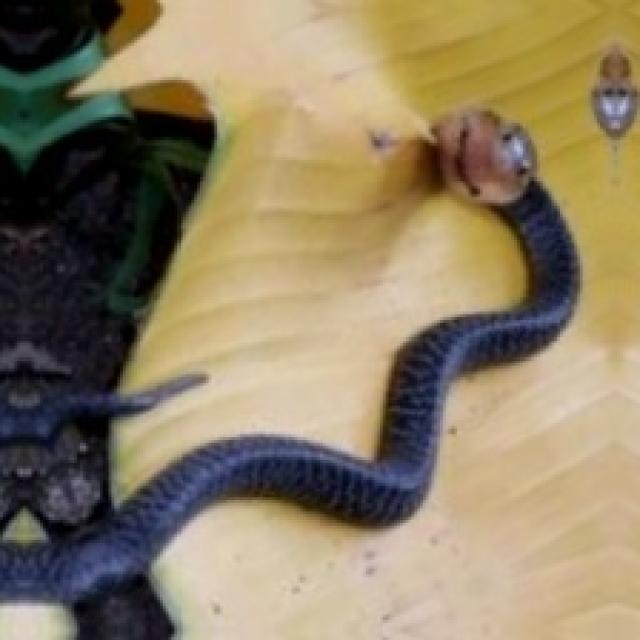philippine cobra: (0, 117, 577, 637)
